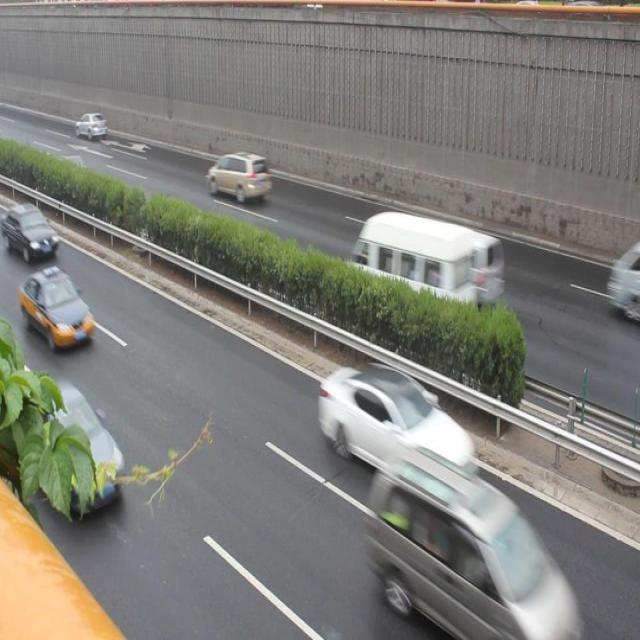car: (316, 356, 476, 496), (29, 386, 131, 508), (436, 210, 515, 308), (24, 266, 102, 362), (1, 201, 58, 261)
truck: (365, 457, 578, 640), (351, 216, 479, 328), (596, 239, 640, 325), (202, 152, 272, 198)
